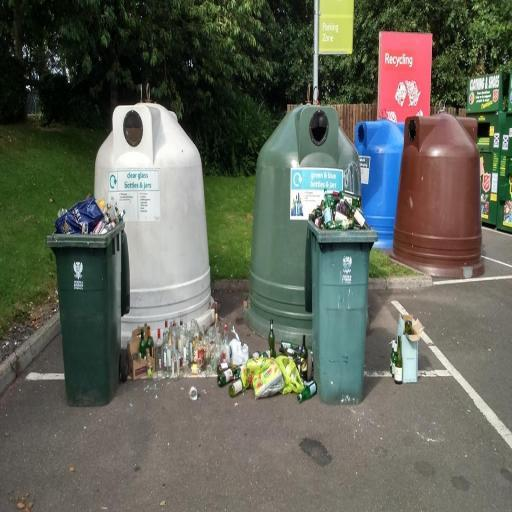trash-can: (52, 190, 134, 412), (306, 201, 374, 418)
